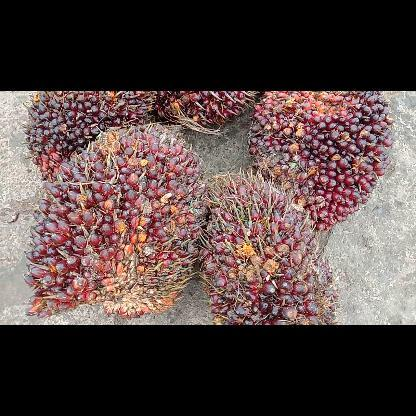Kurang masak: (22, 121, 206, 324), (196, 168, 342, 324), (246, 90, 396, 233), (18, 92, 156, 184)
